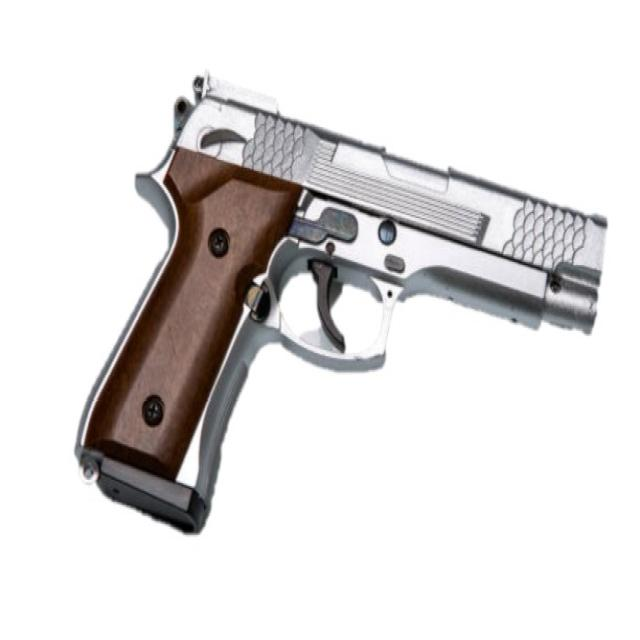pistol: (72, 70, 614, 545)
